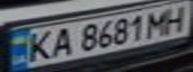1: (127, 12, 151, 42)
6: (97, 18, 118, 50)
8: (78, 20, 100, 52), (112, 16, 133, 46)
A: (48, 25, 75, 57)
H: (160, 2, 193, 34)
K: (21, 28, 57, 63)
M: (142, 7, 175, 38)
